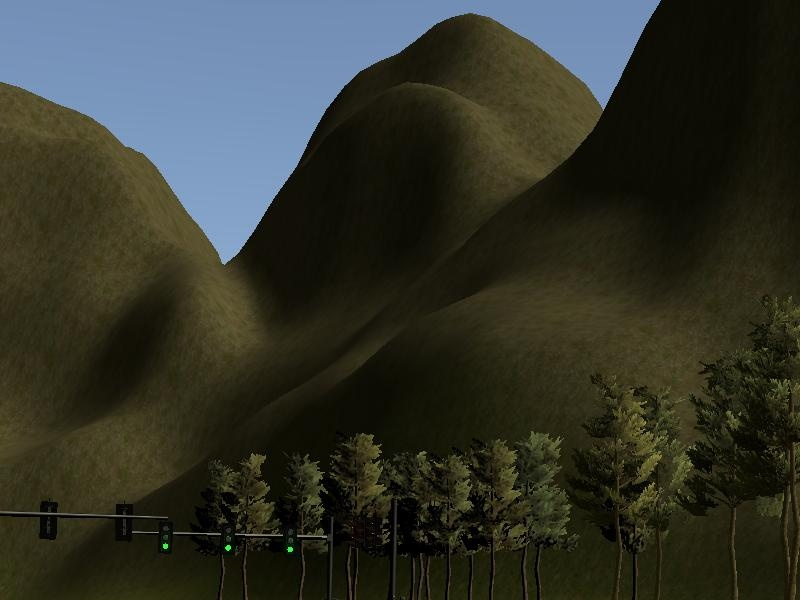GREEN: (282, 523, 299, 559), (220, 521, 236, 557), (159, 519, 173, 554)
